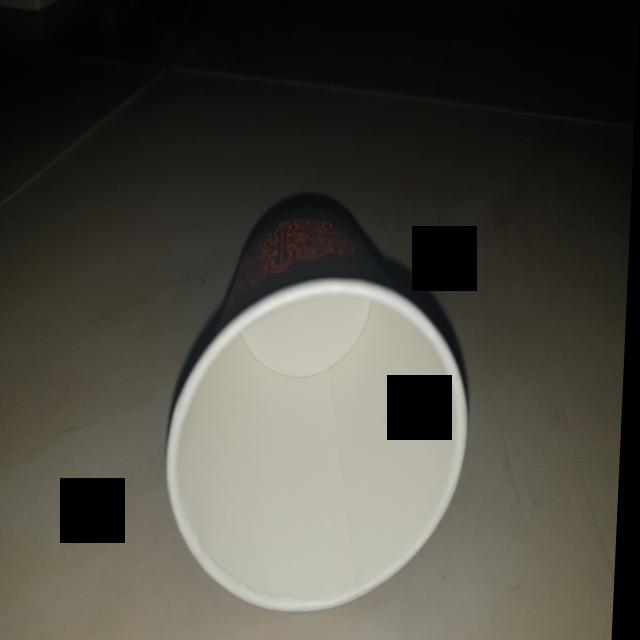cups: (148, 203, 486, 621)
